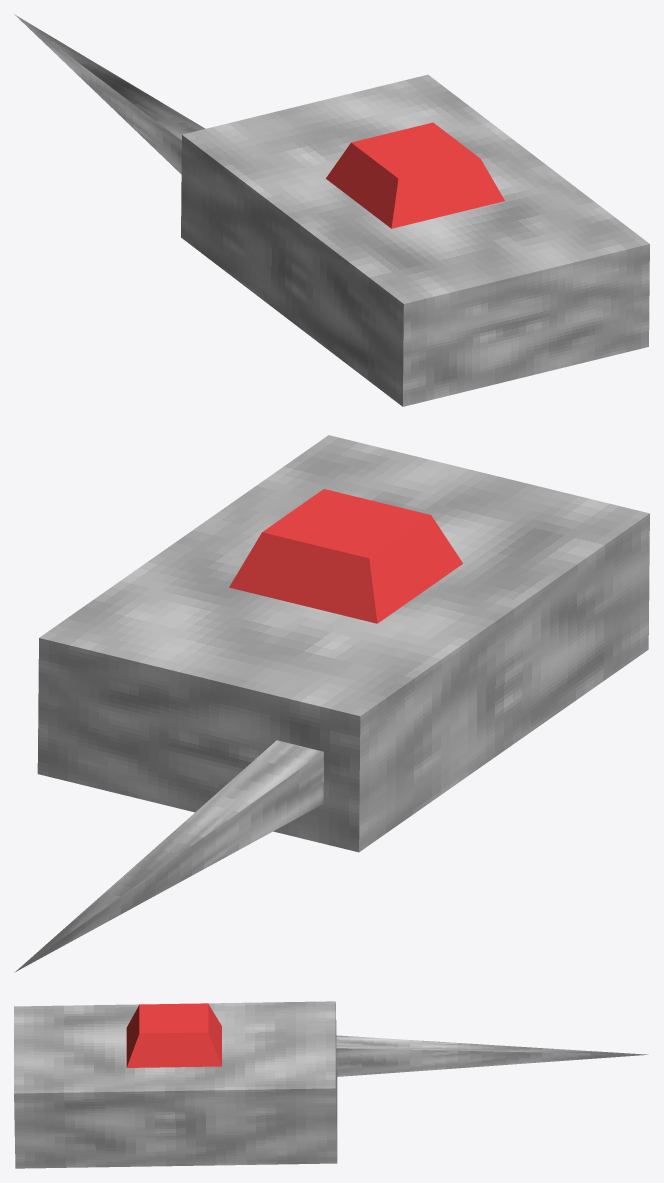
Rendered from remotetrigger.obj.
The picture shows the model from 3 angles, top to bottom: view 1: azimuth 30°, elevation 25°; view 2: azimuth 150°, elevation 25°; view 3: azimuth 270°, elevation 25°; orthographic projection. The views are drawn at different scales.
Visible parts, largest first — view 1: Box02, Box03, Box01; view 2: Box02, Box03, Box01; view 3: Box02, Box01, Box03.
Boxes of the visible parts, x1,y1,x2,y2 form: Box02: [181, 74, 649, 406]; Box03: [326, 122, 504, 228]; Box01: [14, 14, 205, 174]; Box02: [37, 435, 649, 852]; Box03: [229, 489, 462, 623]; Box01: [14, 740, 323, 972]; Box02: [14, 1001, 337, 1168]; Box01: [336, 1035, 648, 1076]; Box03: [126, 1003, 221, 1067].
Bounding box in the file's own units: 4 × 2.29 × 12.33.
